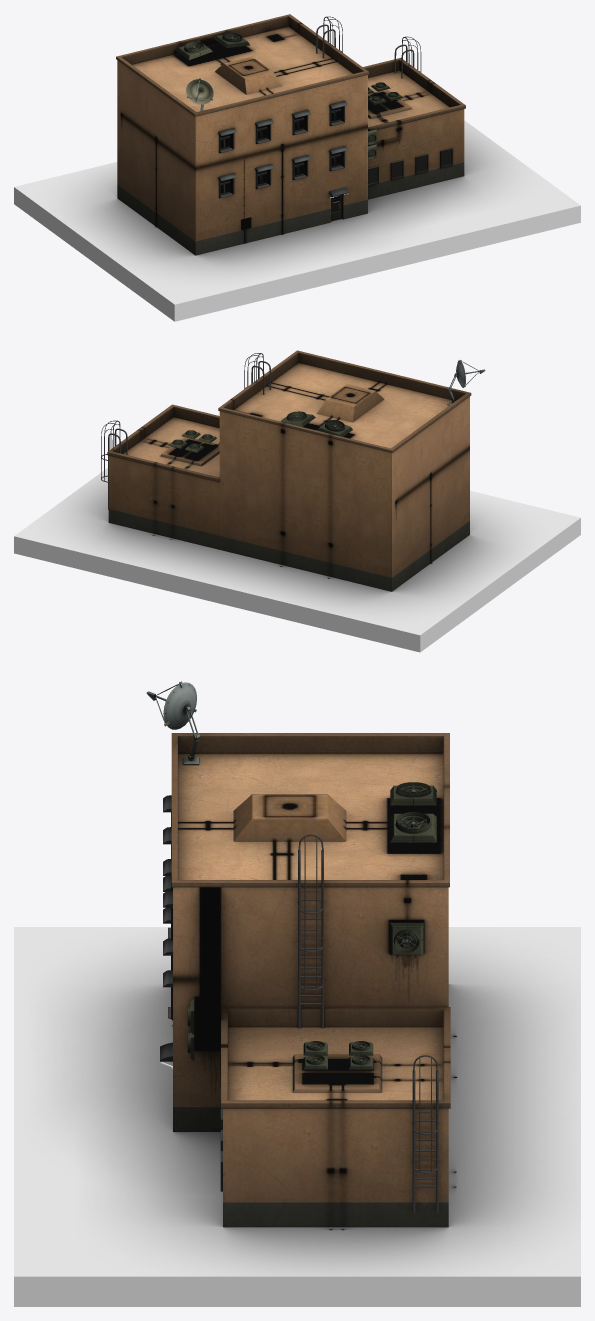
The model's file is radio_tower.glb.
3 views of the same model, one above another, from view 1: azimuth 30°, elevation 25°; view 2: azimuth 150°, elevation 25°; view 3: azimuth 270°, elevation 25° (orthographic). The views are drawn at different scales.
Visible parts, largest first — view 1: Plane, Plane.020, Circle.003, Circle.010, Plane.018; view 2: Plane, Plane.020, Circle.003; view 3: Plane.020, Plane, Circle.003, Circle.011, Plane.014, Circle.008, Circle.010, Plane.016.
Part boxes in pixels (x1,y1,x2,y2): Plane: (116,14,465,255); Plane.020: (14,120,580,321); Circle.003: (186,77,213,110); Circle.010: (176,40,212,60); Plane.018: (394,36,421,78); Plane: (107,350,471,591); Plane.020: (14,468,580,652); Circle.003: (447,360,485,405); Plane.020: (14,927,580,1306); Plane: (160,733,450,1227); Circle.003: (146,681,200,764); Circle.011: (390,811,436,842); Plane.014: (298,885,323,969); Circle.008: (390,922,423,954); Circle.010: (390,782,436,805); Plane.016: (412,1144,438,1212).
Bounding box in the file's own units: 33 × 14.89 × 22.62.
9 materials, 7 textured.
